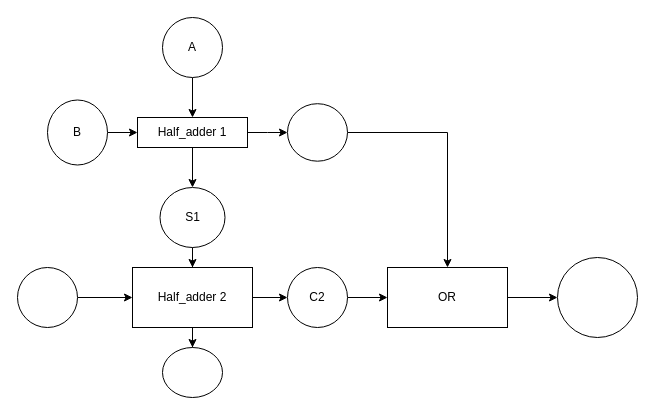
Some shapes in this 655 by 415 pixel diagram are drawn without their labels. The shapes that lost their labels are listed below. From the top down, each one's centre as x and y in pixels, then its label:
At point (317, 132): "C1".
At point (47, 297): "Cin".
At point (597, 297): "Cout".
At point (192, 372): "Sum".
